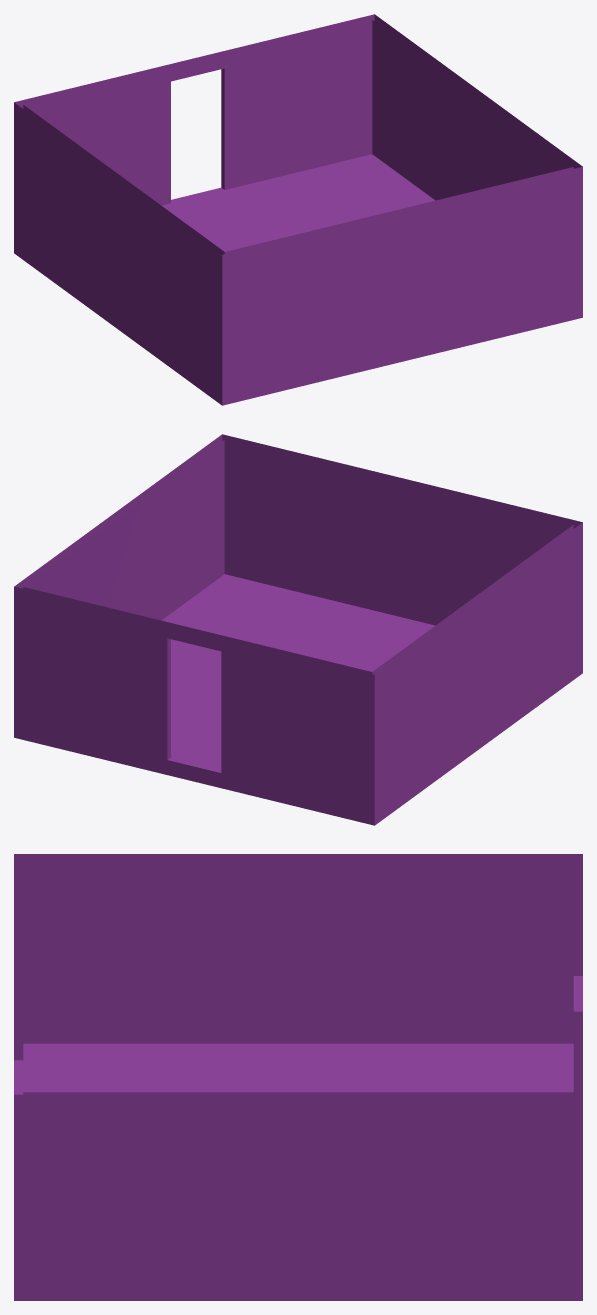
File: Room_Template.fbx
3 renders of one model, top to bottom at view 1: azimuth 30°, elevation 25°; view 2: azimuth 150°, elevation 25°; view 3: azimuth 270°, elevation 25°, orthographic. The views are drawn at different scales.
Visible parts, largest first — view 1: SRoom_035; view 2: SRoom_035; view 3: SRoom_035.
Boxes of the visible parts, x1,y1,x2,y2 form: SRoom_035: (14, 14, 582, 405); SRoom_035: (14, 434, 582, 825); SRoom_035: (14, 854, 582, 1300).
Size of the model in its own units: 10 by 4 by 10.
